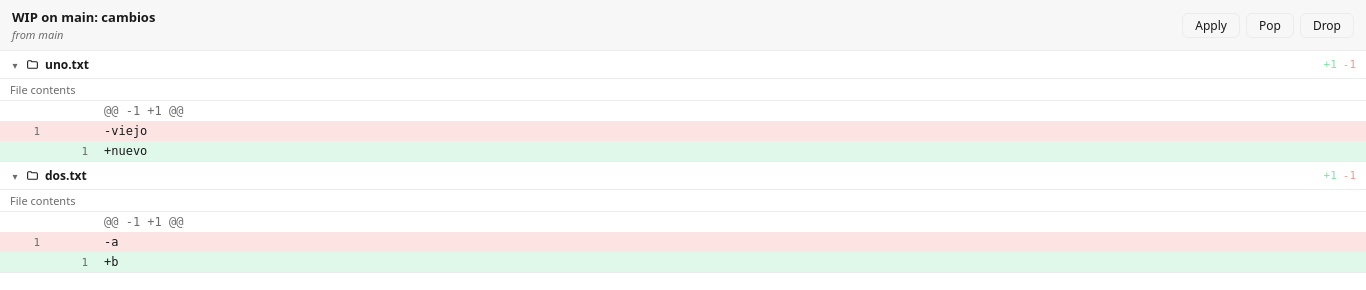
it: StashView › collapses a file's patch
Click the button named "Toggle uno.txt": (15, 64) [10,58,20,72]
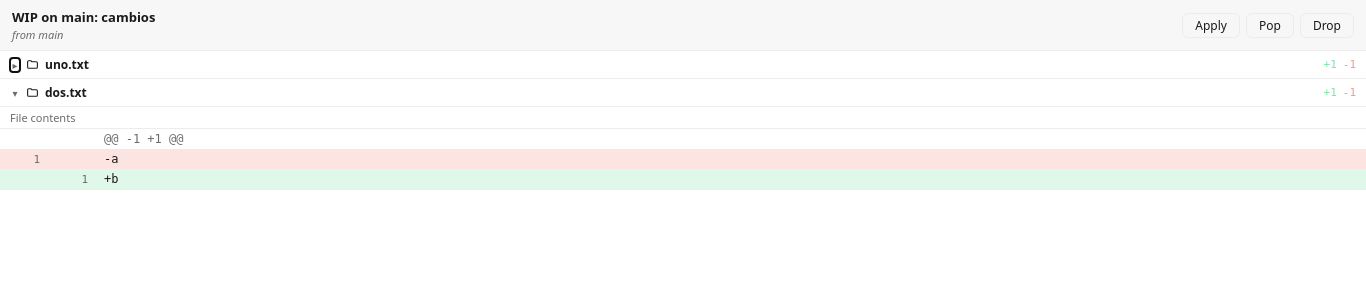
Expected: the text "-a" is shown, [104,152,118,166]
Result: the text "-viejo" is gone
